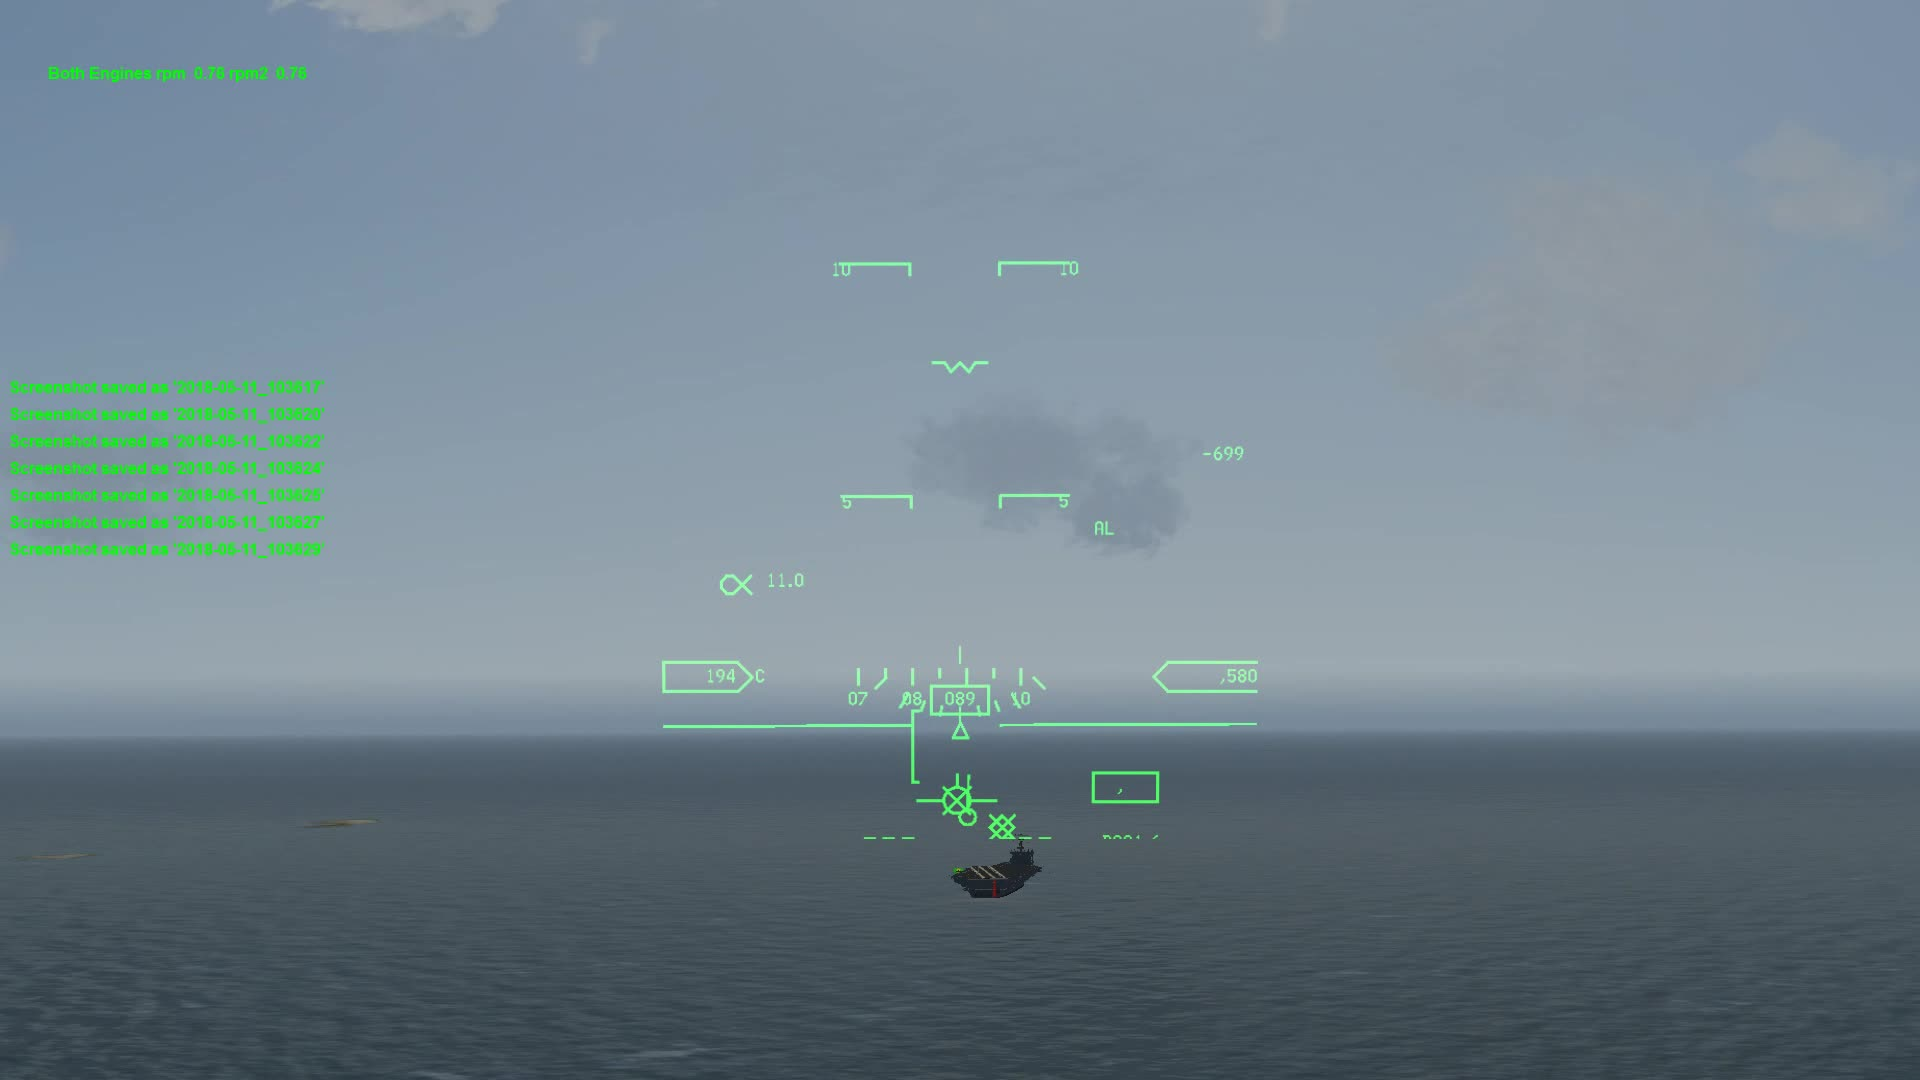speed vector: (918, 774, 1021, 816)
